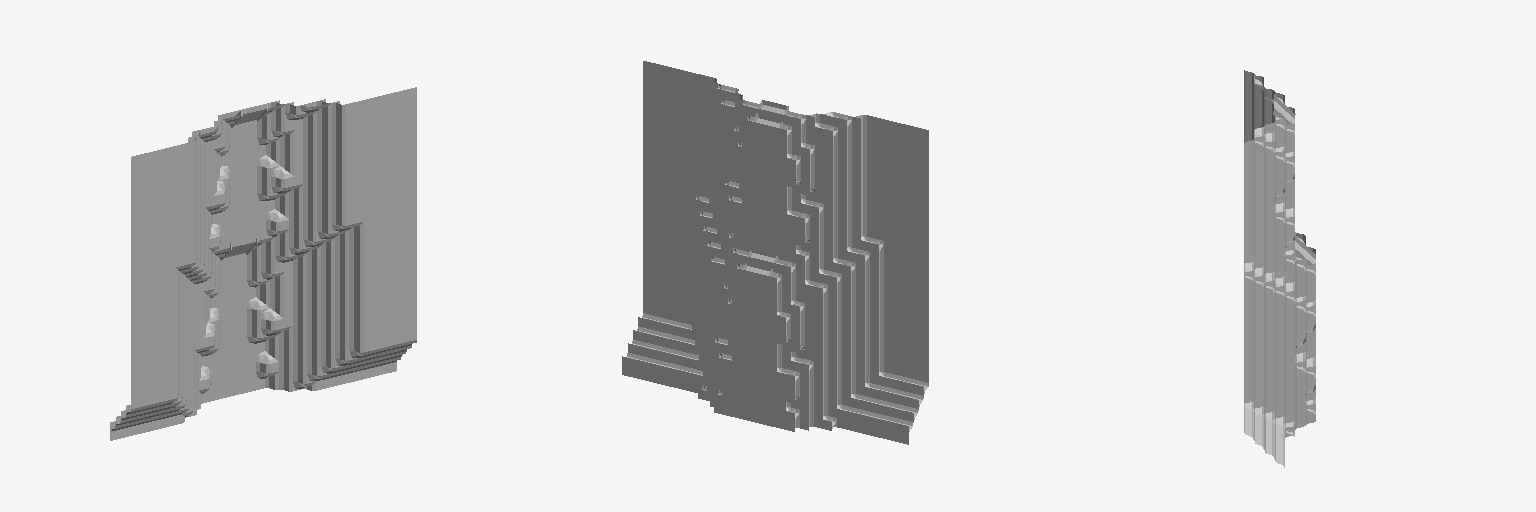
Rendered from Victory-Road-4_00_06.obj.
The picture shows the model from 3 angles: view 1: azimuth 30°, elevation 25°; view 2: azimuth 150°, elevation 25°; view 3: azimuth 270°, elevation 25°; orthographic projection.
Parts seen in each view (by area): view 1: map; view 2: map; view 3: map.
Boxes of the visible parts, x1=… form: map: x1=110, y1=87, x2=416, y2=440; map: x1=622, y1=61, x2=928, y2=444; map: x1=1244, y1=70, x2=1315, y2=467.
Bounding box in the file's own units: 32 × 32.5 × 7.01.